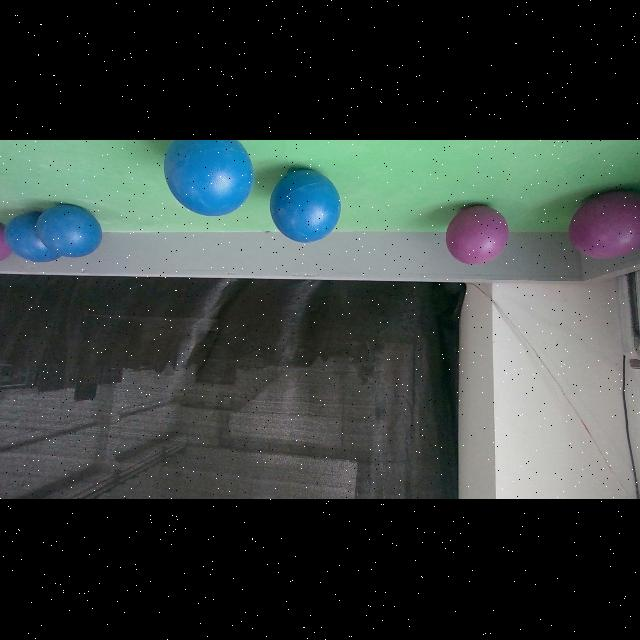B: (163, 141, 254, 217), (270, 169, 340, 243), (36, 204, 102, 258), (16, 208, 54, 266)
P: (568, 190, 640, 260), (446, 207, 508, 266)
